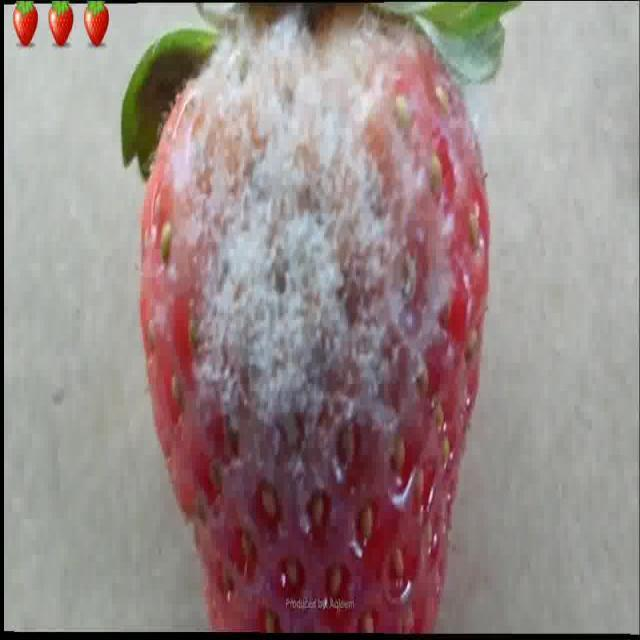Moho gris: (126, 10, 538, 628)
